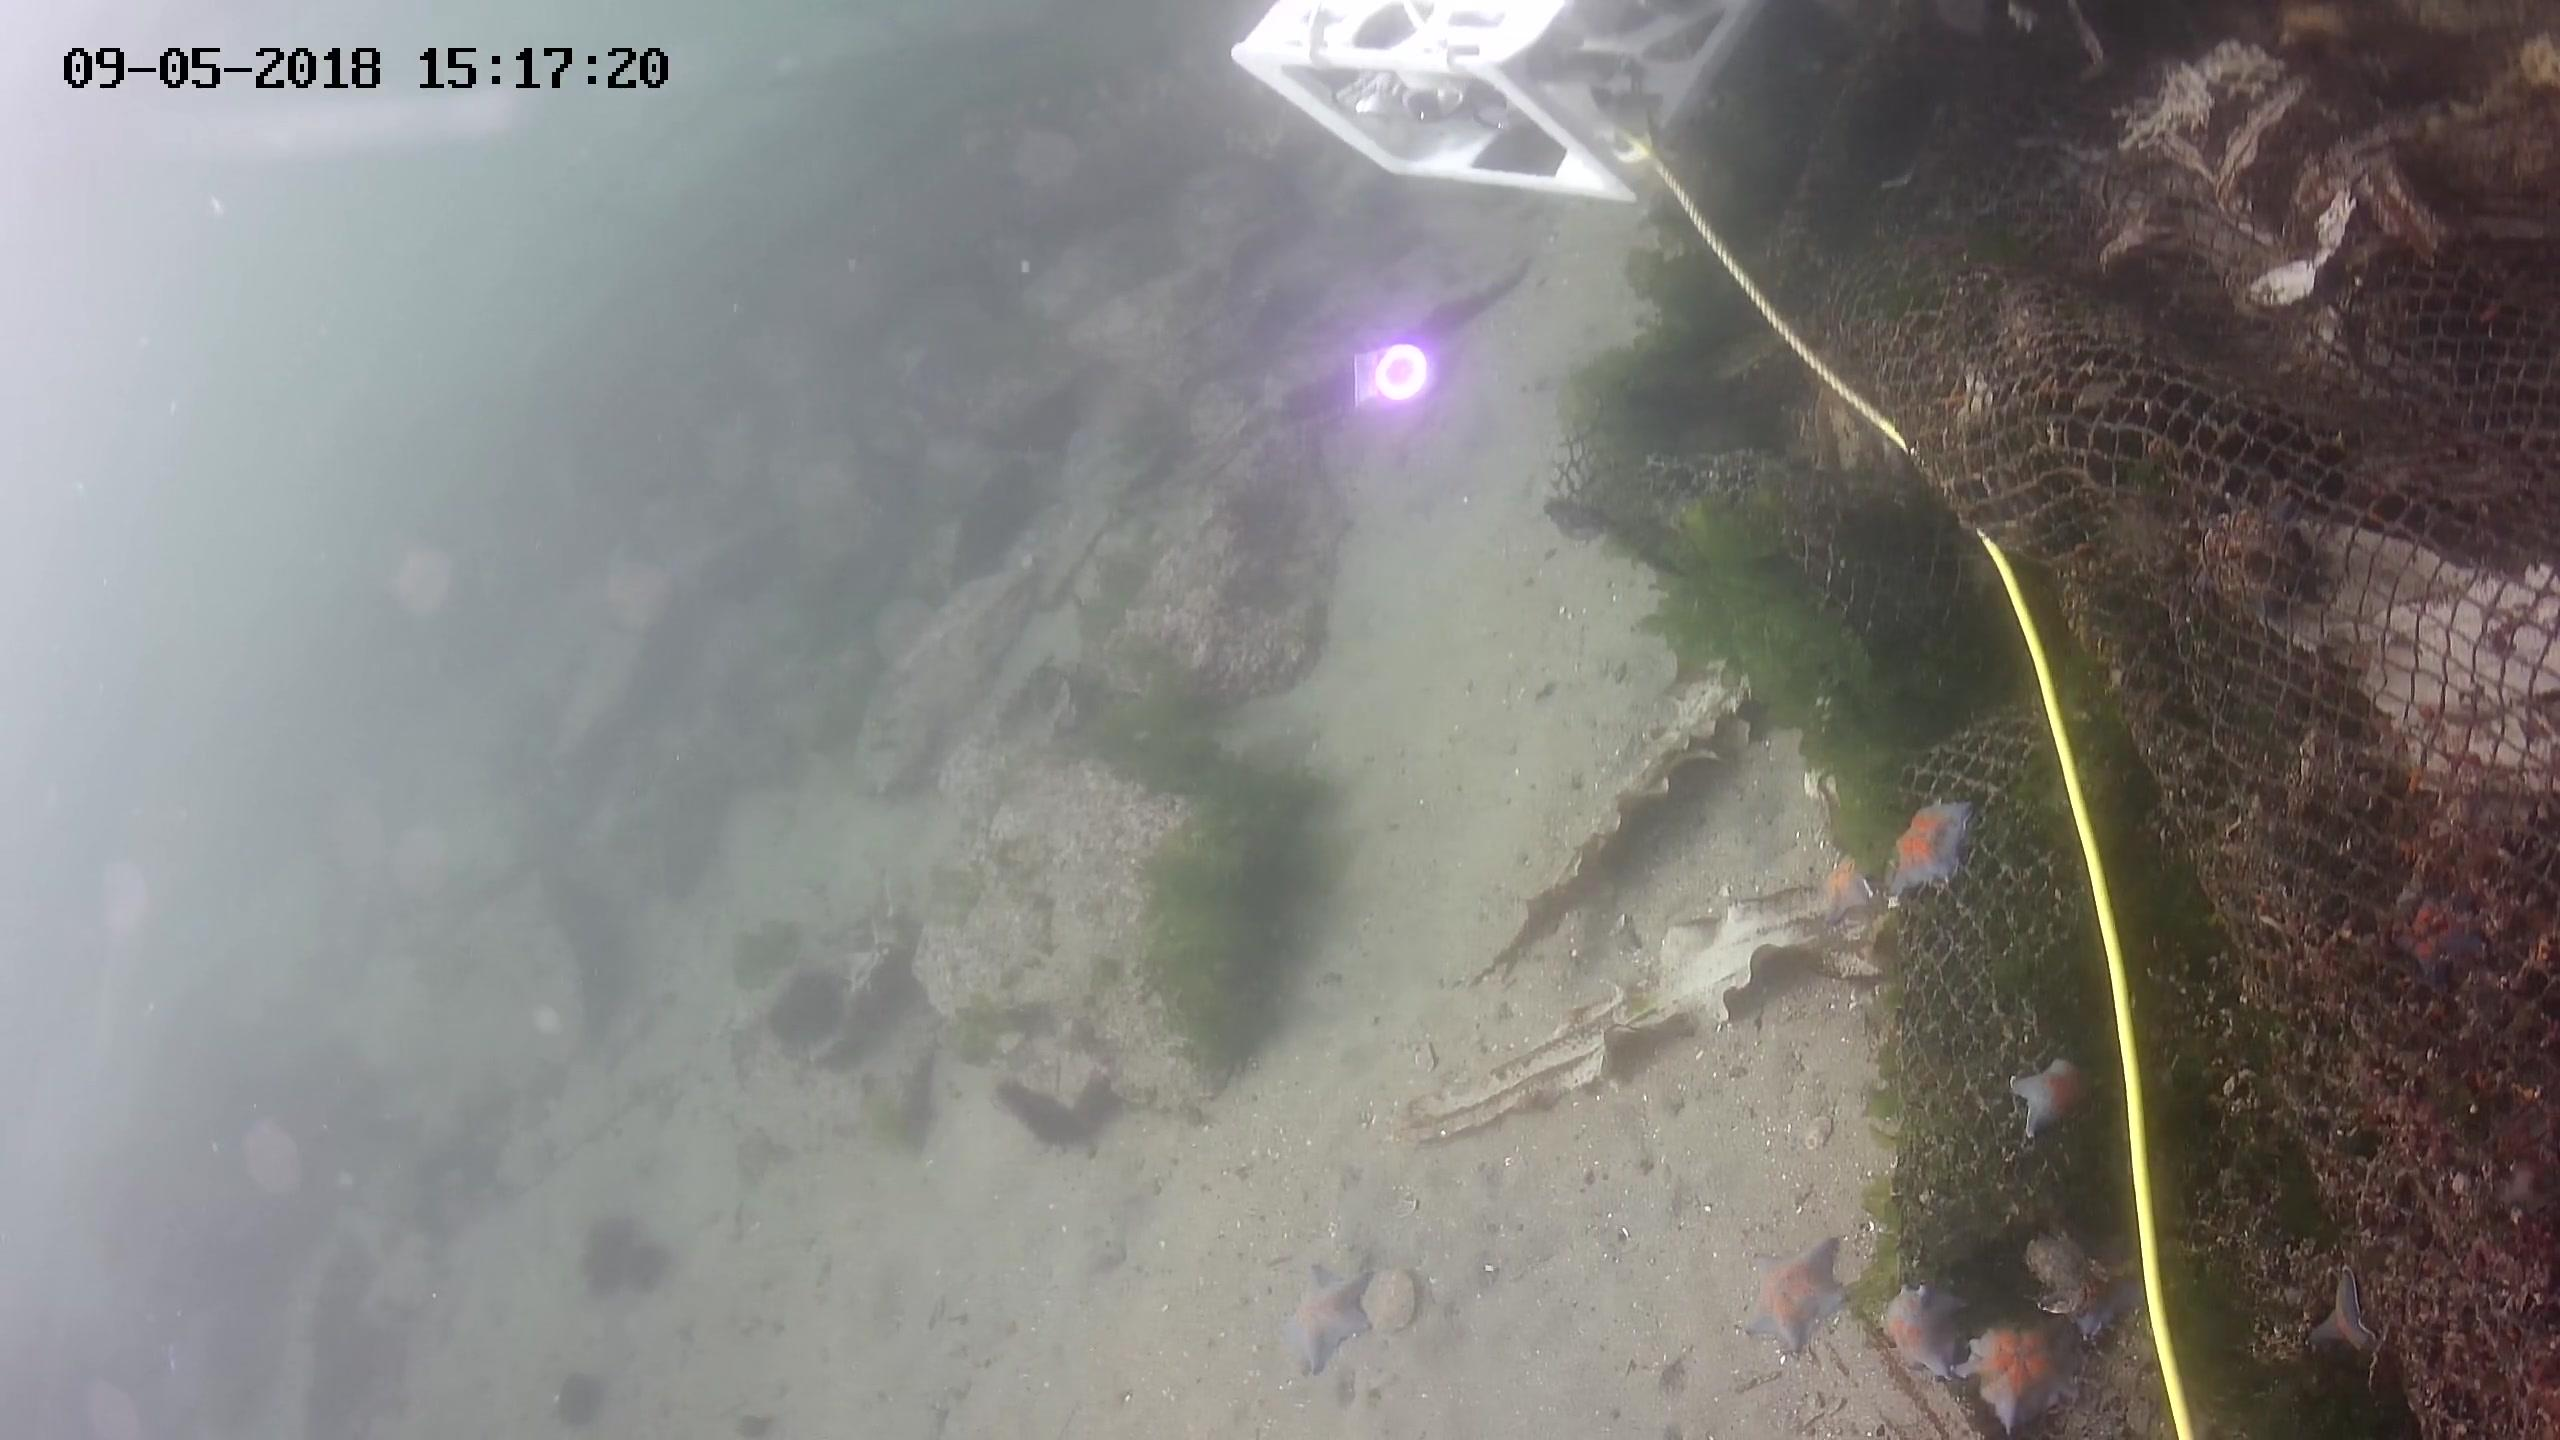echinus: (756, 971, 853, 1046)
scallop: (1364, 1268, 1421, 1333)
starfish: (1739, 1231, 1857, 1359), (1962, 1320, 2073, 1422), (1282, 1271, 1371, 1363), (2054, 1261, 2143, 1345), (2396, 890, 2486, 972), (1892, 800, 1975, 879), (2008, 1055, 2091, 1131), (1871, 1285, 1946, 1366), (2310, 1266, 2375, 1356), (1815, 858, 1874, 925)
